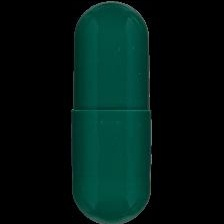63629-3564: (0, 0, 224, 224)
